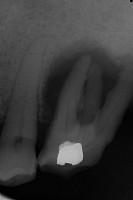Dental Caries: (40, 38, 133, 124)
